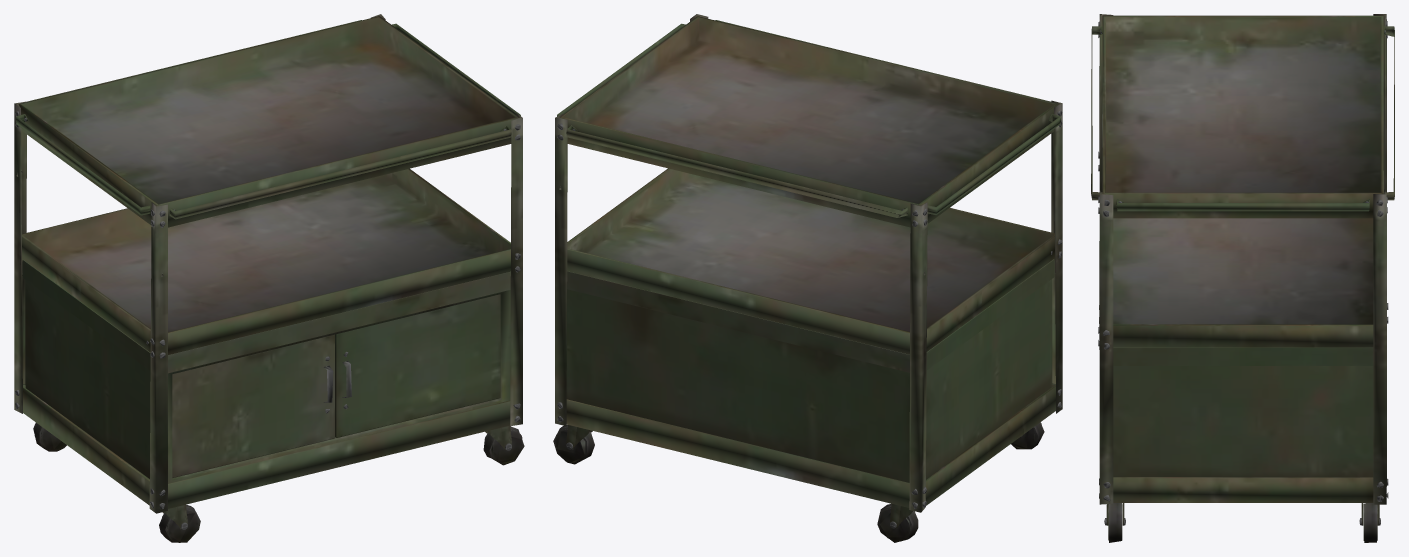
Rendered from industrial_storage_cart.glb.
3 renders of one model, left to right at view 1: azimuth 30°, elevation 25°; view 2: azimuth 150°, elevation 25°; view 3: azimuth 270°, elevation 25°, orthographic.
Visible parts, largest first — view 1: industrial_storage_cart; view 2: industrial_storage_cart; view 3: industrial_storage_cart.
Part boxes in pixels (x1,y1,x2,y2): industrial_storage_cart: (14, 14, 524, 542); industrial_storage_cart: (553, 14, 1062, 542); industrial_storage_cart: (1091, 14, 1394, 542).
Size of the model in its own units: 1.58 by 1.38 by 1.08.
1 material, 1 textured.
